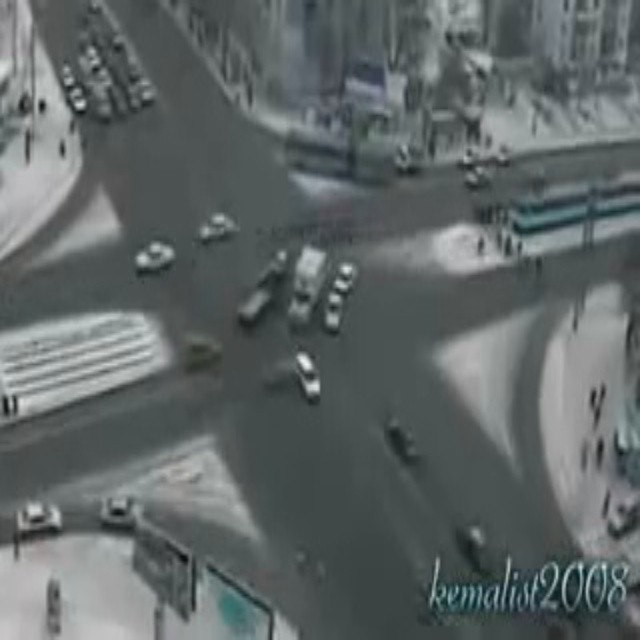acc: (254, 344, 334, 406)
